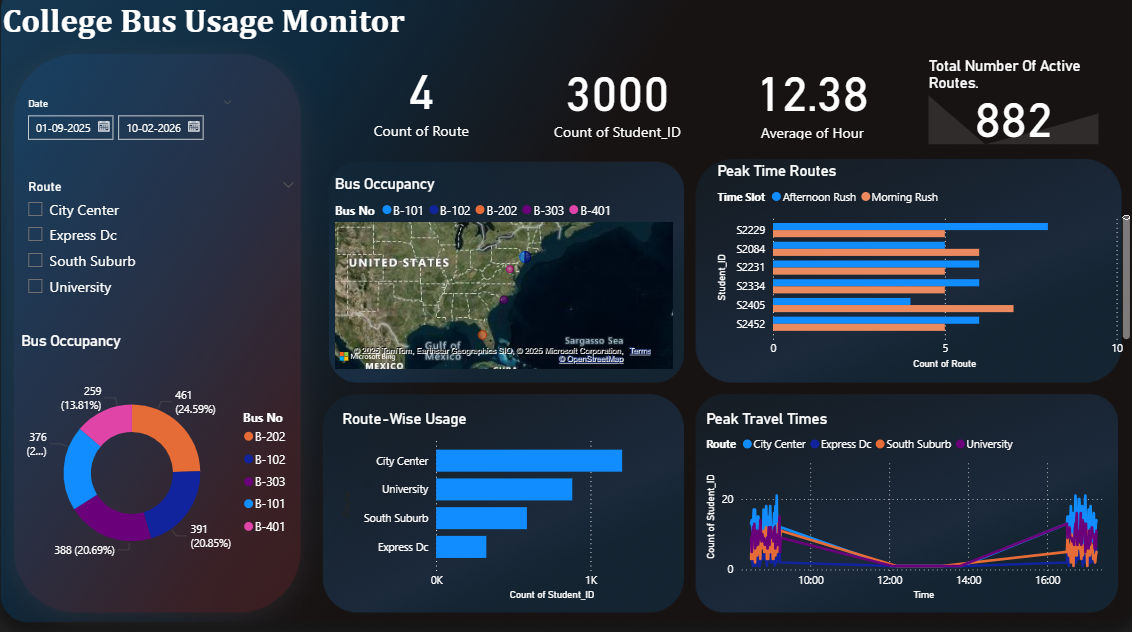

What the dashboard file says about the page in this screenshot:
{"tool":"powerbi","page":{"name":"Page 1","canvas":[1280,720],"ordinal":0},"visuals":[{"type":"slicer","fields":{"Values":["bus_data_with_attendance.Date"]},"box":[21.7,110,230,65],"z":0},{"type":"slicer","fields":{"Values":["bus_data_with_attendance.Route"]},"box":[21.7,201.7,230,150],"z":1000},{"type":"barChart","title":"  Route-Wise Usage","fields":{"Category":["bus_data_with_attendance.Route"],"Y":["CountNonNull(bus_data_with_attendance.Student_ID)"]},"box":[383.3,466.7,391.7,220],"z":2000},{"type":"clusteredBarChart","title":"  Peak Time Routes","fields":{"Category":["bus_data_with_attendance.Student_ID"],"Y":["CountNonNull(bus_data_with_attendance.Route)"],"Series":["bus_data_with_attendance.Time Slot"]},"box":[804.3,192.9,460,237.1],"z":3000},{"type":"donutChart","title":"Bus Occupancy","fields":{"Category":["bus_data_with_attendance.Bus No"],"Y":["Count(bus_data_with_attendance.Student_ID)"]},"box":[21.7,378.3,325,298.3],"z":4000},{"type":"kpi","title":" Total Number Of Active Routes.","fields":{"TrendLine":["bus_data_with_attendance.Route"],"Indicator":["CountNonNull(bus_data_with_attendance.Route)"]},"box":[1043.3,63.3,201.7,103.3],"z":5000},{"type":"card","fields":{"Values":["CountNonNull(bus_data_with_attendance.Student_ID)"]},"box":[591.7,60,213.3,108.3],"z":6000},{"type":"card","fields":{"Values":["Count(bus_data_with_attendance.Route)"]},"box":[375,53.3,205,118.3],"z":7000},{"type":"textbox","box":[0,0,690.1,62.7],"z":8000},{"type":"lineChart","title":"Peak Travel Times","fields":{"Category":["bus_data_with_attendance.Time"],"Y":["CountNonNull(bus_data_with_attendance.Student_ID)"],"Series":["bus_data_with_attendance.Route"]},"box":[830,476.7,385,200],"z":9000},{"type":"map","title":"Bus Occupancy","fields":{"Series":["bus_data_with_attendance.Bus No"],"Size":["Count(bus_data_with_attendance.Student_ID)"],"Category":["bus_data_with_attendance.Route"]},"box":[384.9,201.5,390.9,229.2],"z":10000},{"type":"card","fields":{"Values":["Avg(bus_data_with_attendance.Hour)"]},"box":[813.3,63.3,210,103.3],"z":11000}]}

Visuals, with their boxes in screenshot pixels (x1, y1, x2, y2), scaled from the page's 1280x720 canvas onto the 1132x632 screenshot:
slicer - bus_data_with_attendance.Date: detection(19, 97, 223, 154)
slicer - bus_data_with_attendance.Route: detection(19, 177, 223, 309)
"  Route-Wise Usage" barChart: detection(339, 410, 685, 603)
"  Peak Time Routes" clusteredBarChart: detection(711, 169, 1118, 377)
"Bus Occupancy" donutChart: detection(19, 332, 307, 594)
" Total Number Of Active Routes." kpi: detection(923, 56, 1101, 146)
card - CountNonNull(bus_data_with_attendance.Student_ID): detection(523, 53, 712, 148)
card - Count(bus_data_with_attendance.Route): detection(332, 47, 513, 151)
textbox: detection(0, 0, 610, 55)
"Peak Travel Times" lineChart: detection(734, 418, 1075, 594)
"Bus Occupancy" map: detection(340, 177, 686, 378)
card - Avg(bus_data_with_attendance.Hour): detection(719, 56, 905, 146)
